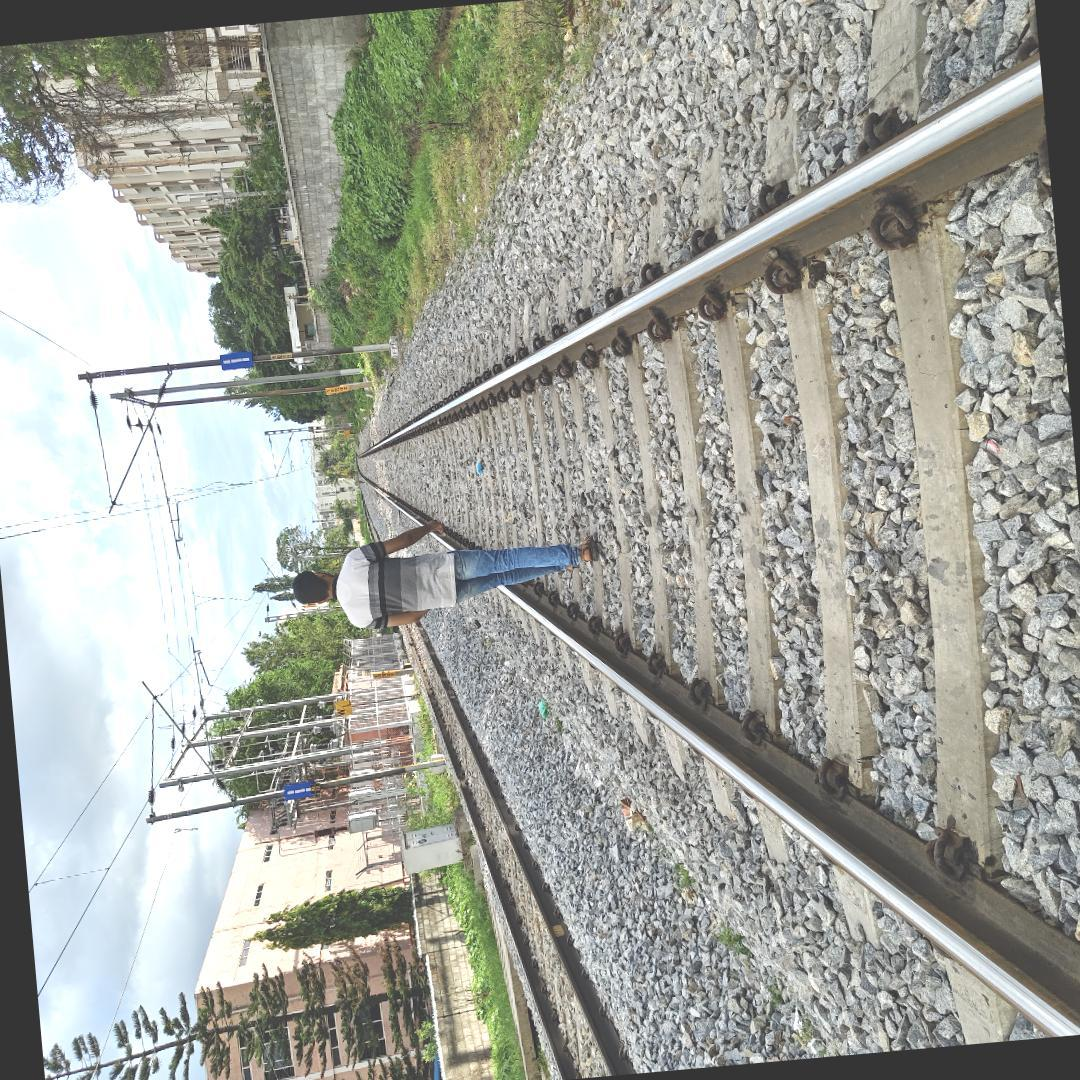standing: (289, 493, 608, 652)
